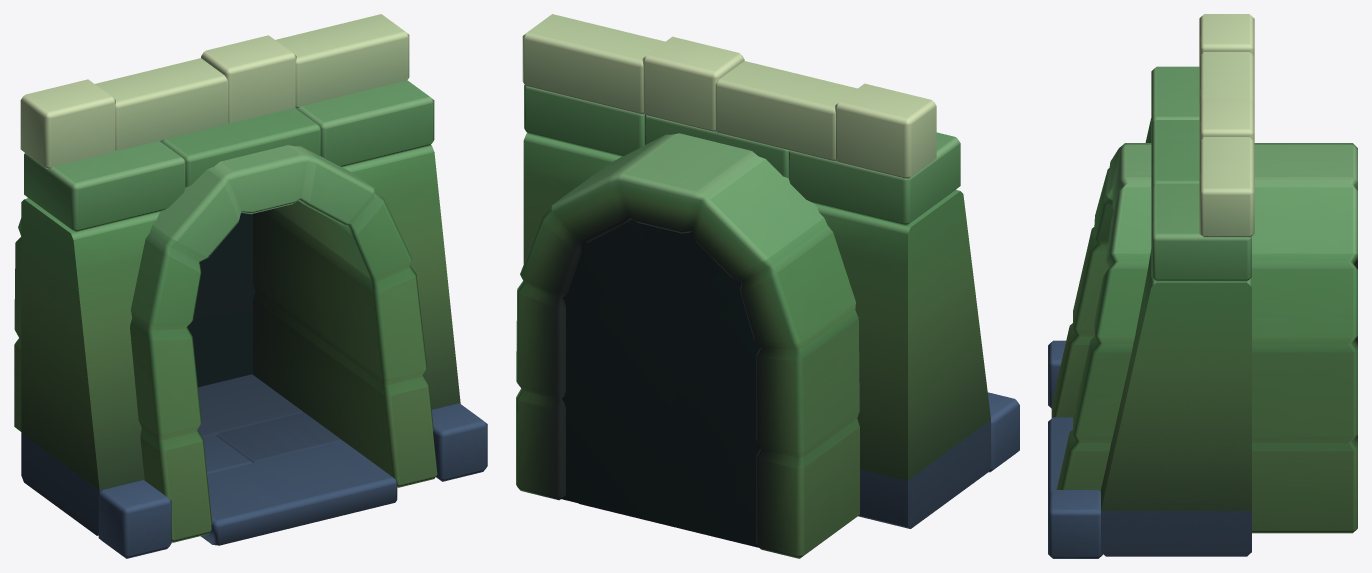
Rendered from doorway_wall.fbx.
3 renders of one model, left to right at view 1: azimuth 30°, elevation 25°; view 2: azimuth 150°, elevation 25°; view 3: azimuth 270°, elevation 25°, orthographic. The views are drawn at different scales.
Visible parts, largest first — view 1: doorway_wall; view 2: doorway_wall; view 3: doorway_wall.
Part boxes in pixels (x1=…): doorway_wall: x1=14, y1=14, x2=487, y2=558; doorway_wall: x1=516, y1=14, x2=1019, y2=558; doorway_wall: x1=1048, y1=14, x2=1357, y2=558.
Size of the model in its own units: 405 by 420 by 308.
